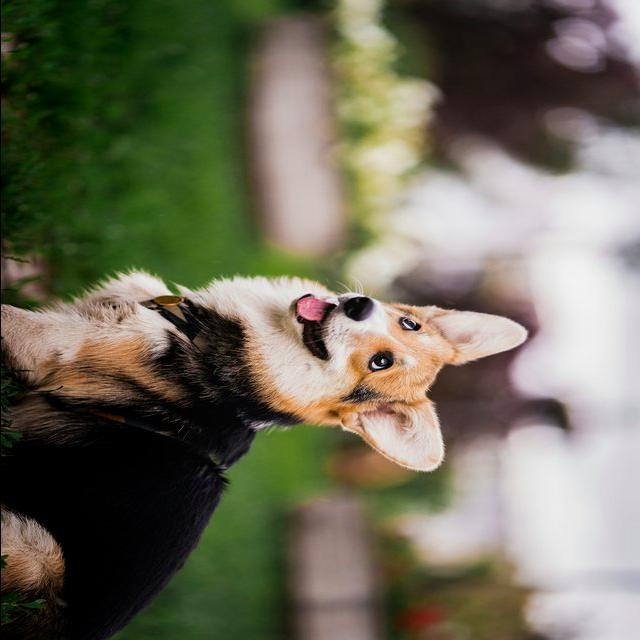corgi: (2, 266, 530, 639)
